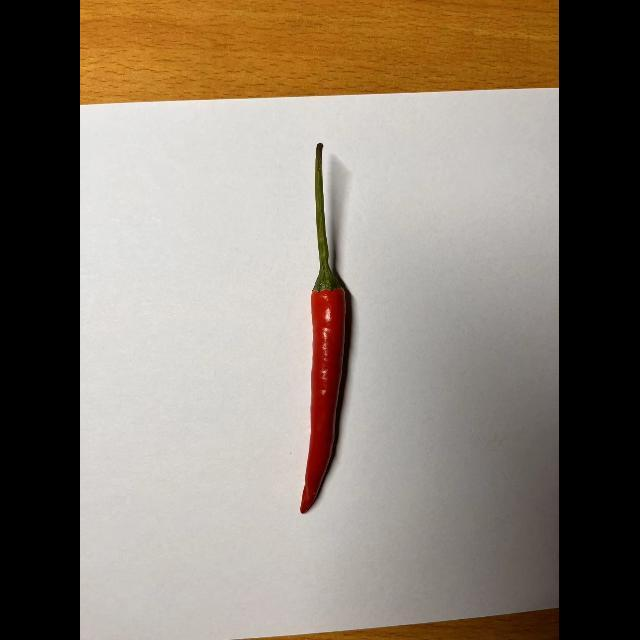chili_pepper: (287, 142, 362, 520)
